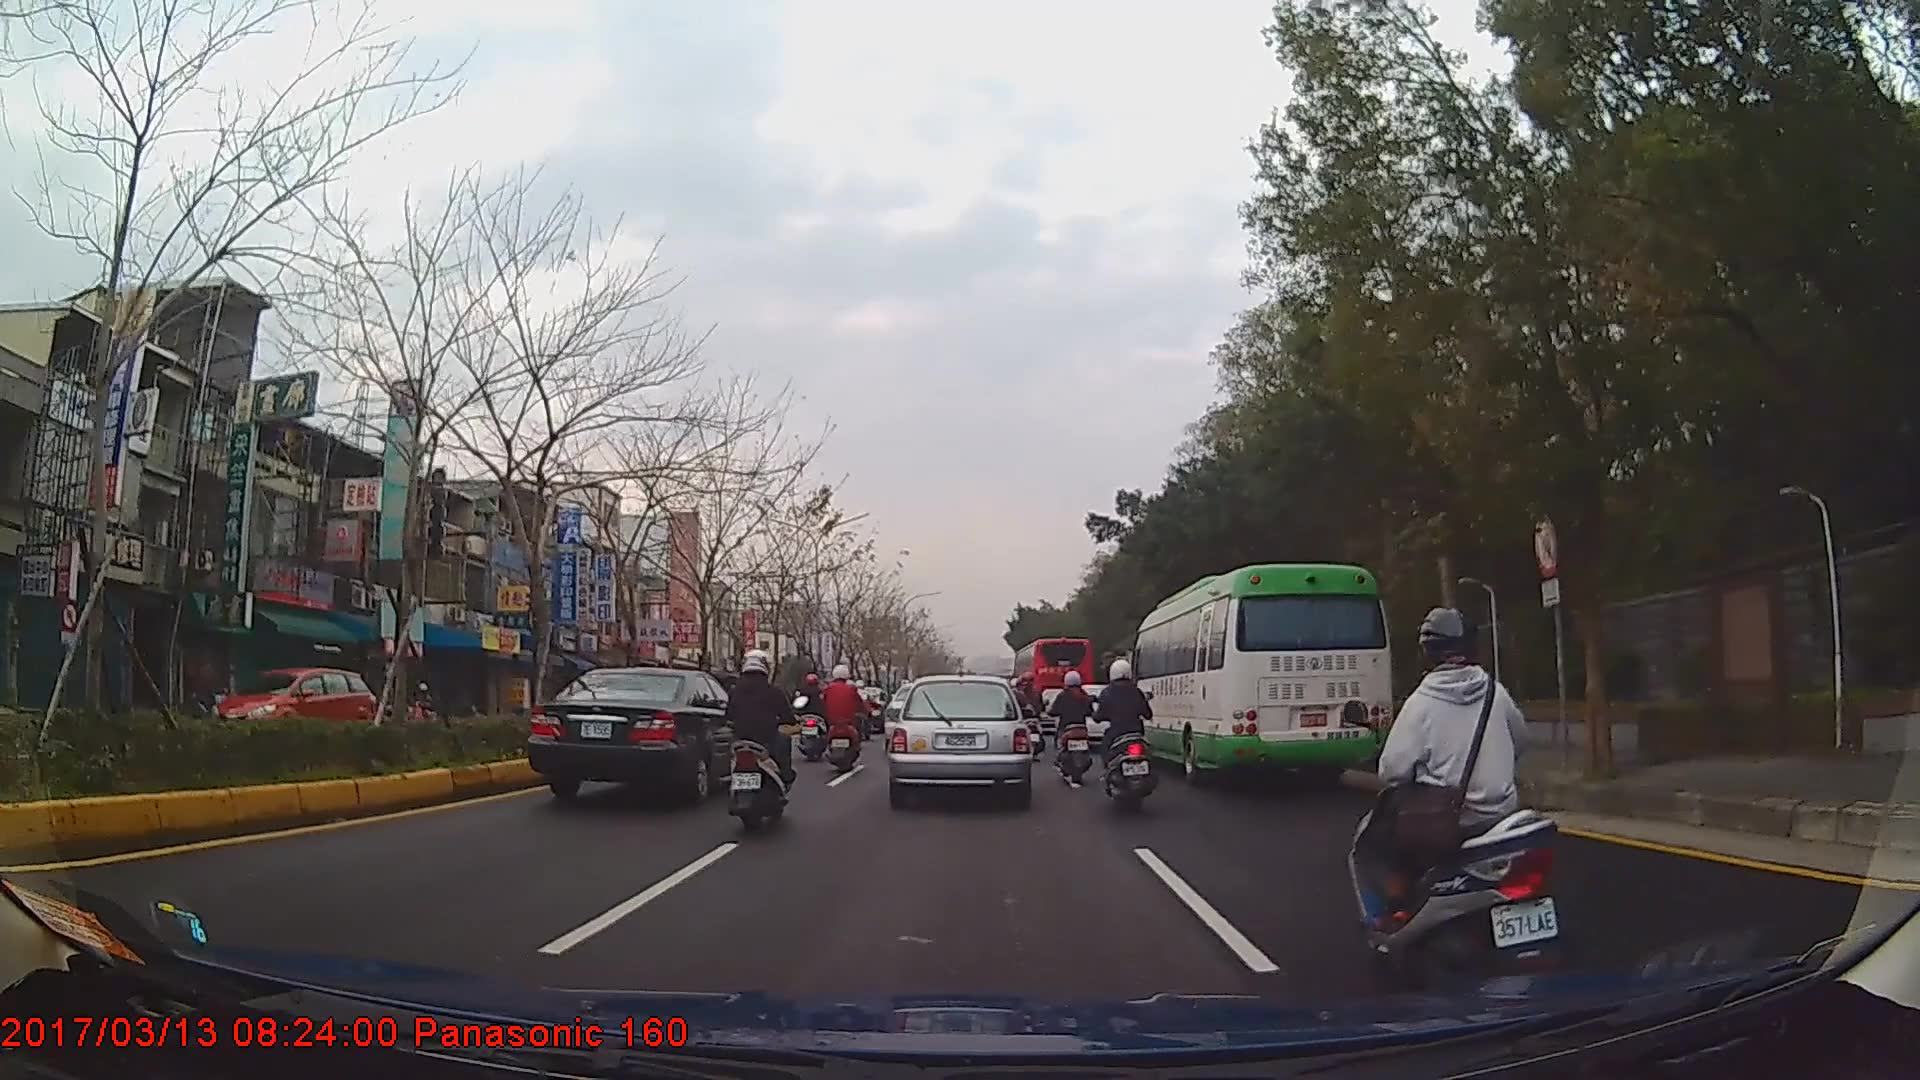rider: (1342, 605, 1556, 983), (723, 648, 806, 835), (1095, 659, 1165, 813), (1049, 671, 1097, 788), (821, 665, 864, 775), (795, 676, 833, 765), (1011, 671, 1044, 761), (410, 683, 437, 722)
vehicle: (1126, 563, 1396, 796), (530, 664, 763, 803), (888, 673, 1030, 805), (212, 666, 374, 752), (1011, 631, 1096, 727)
